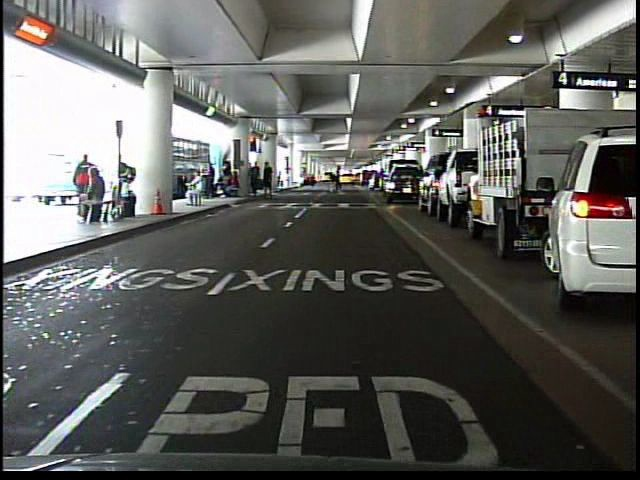person: (183, 171, 208, 208), (325, 162, 346, 195)
